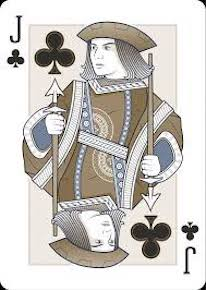JackOfClubs: (1, 1, 205, 290)
